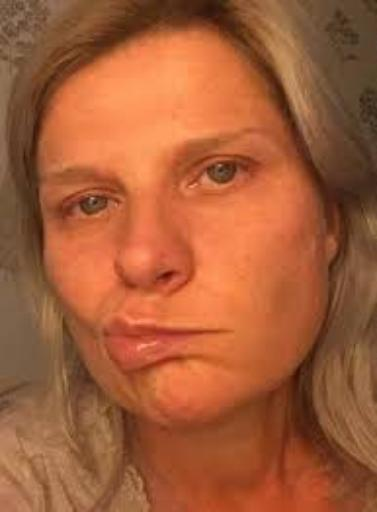left_eye: (187, 159, 258, 196)
left_lip_corner: (186, 324, 244, 347)
right_eye: (59, 193, 119, 223)
right_lip_corner: (97, 321, 118, 345)
